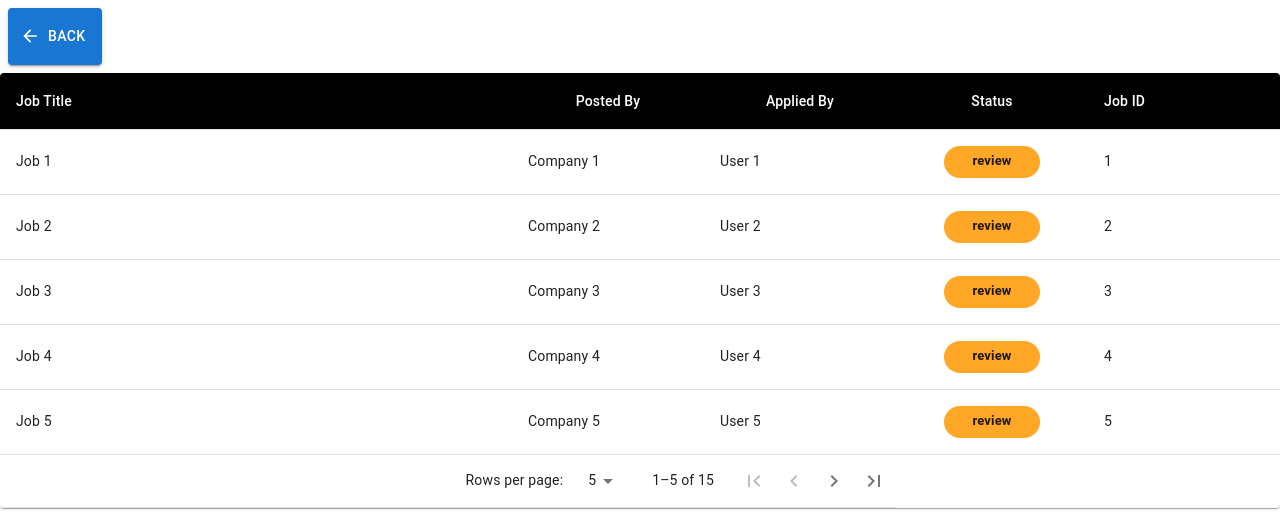
Test: TrackApplications component › handles pagination correctly
Check: the column heading "Job 1" is shown, box [0,129,512,194]
Check: the text "Job 6" is not shown
Step 1. Click the button named "next page" → (834, 480), box [814,460,854,500]
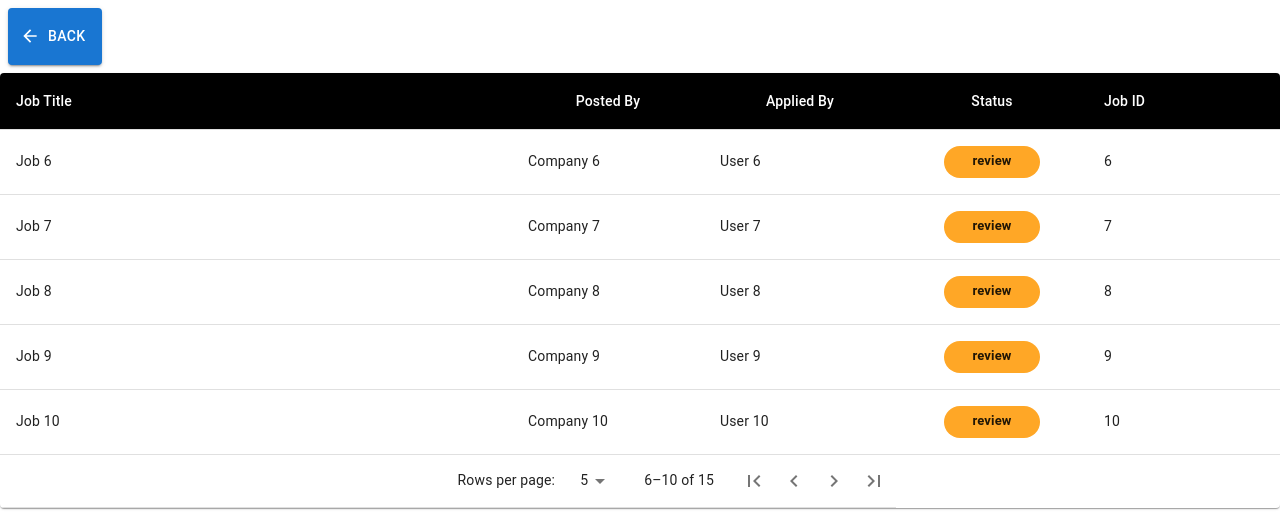
Check: the column heading "Job 6" is shown, box [0,129,512,194]
